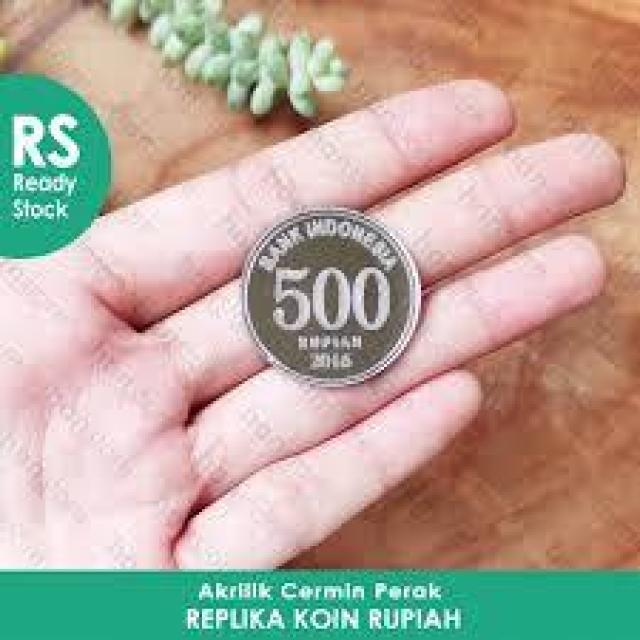500-silver: (234, 203, 437, 393)
